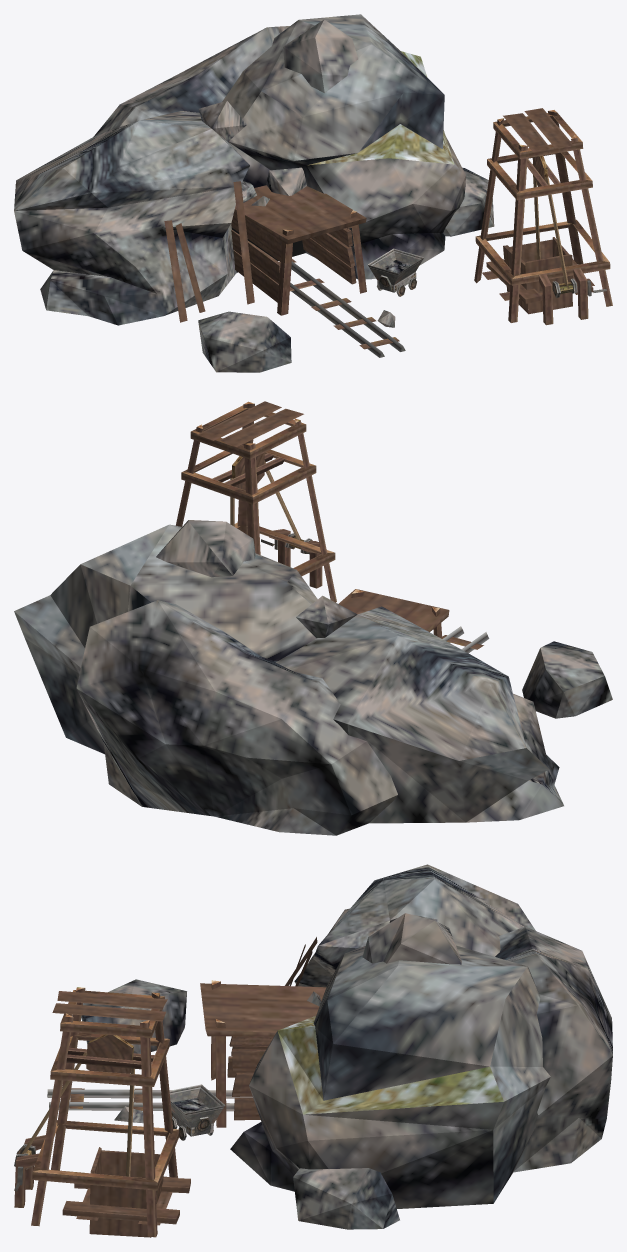
File: mine_coal.fbx
The picture shows the model from 3 angles, top to bottom: view 1: azimuth 30°, elevation 25°; view 2: azimuth 150°, elevation 25°; view 3: azimuth 270°, elevation 25°; orthographic projection. The views are drawn at different scales.
Visible parts, largest first — view 1: polySurface1; view 2: polySurface1; view 3: polySurface1.
Part boxes in pixels (bbox=[...]): polySurface1: bbox=[14, 14, 612, 372]; polySurface1: bbox=[14, 401, 612, 835]; polySurface1: bbox=[14, 864, 612, 1237].
Size of the model in its own units: 1562 by 688 by 1485.
Materials: 2 (2 with a texture image).
